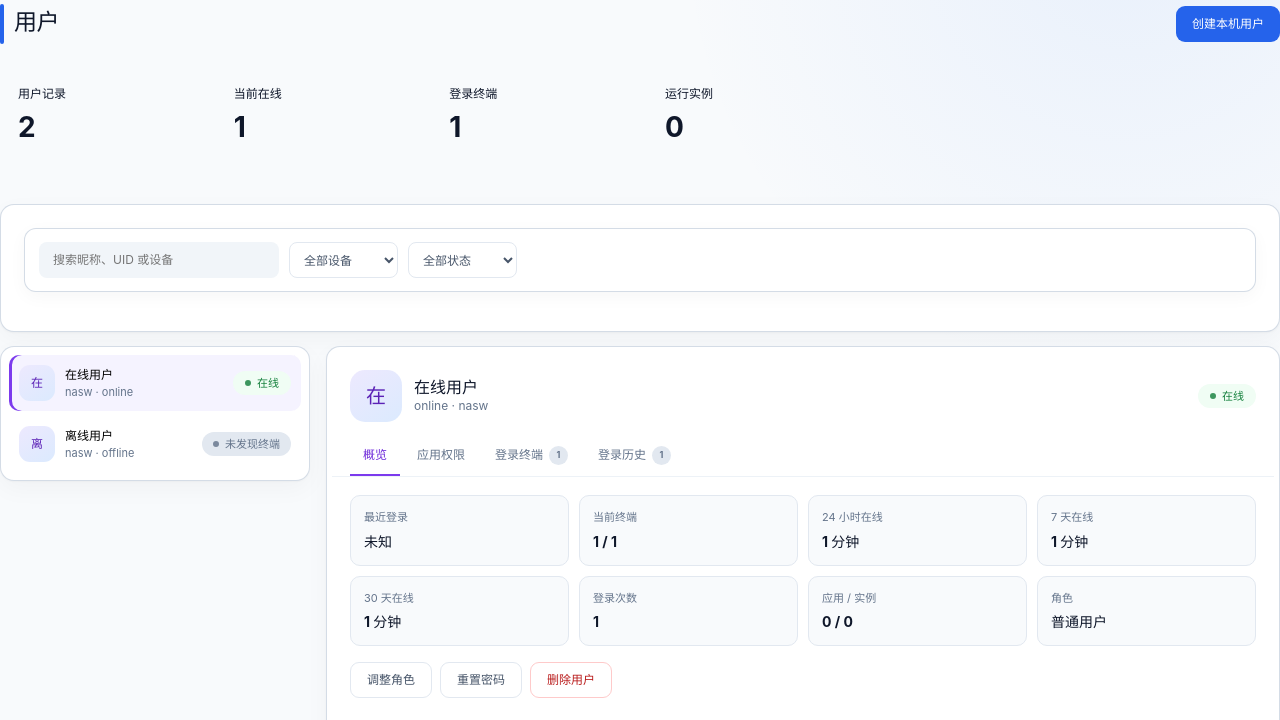
Test: UsersPage › keeps rendering when an offline user has null endpoint and session arrays
Click the button "离 离线用户 nasw · offline 未发现终端" at (37, 444), box left=9, top=416, right=301, bottom=472
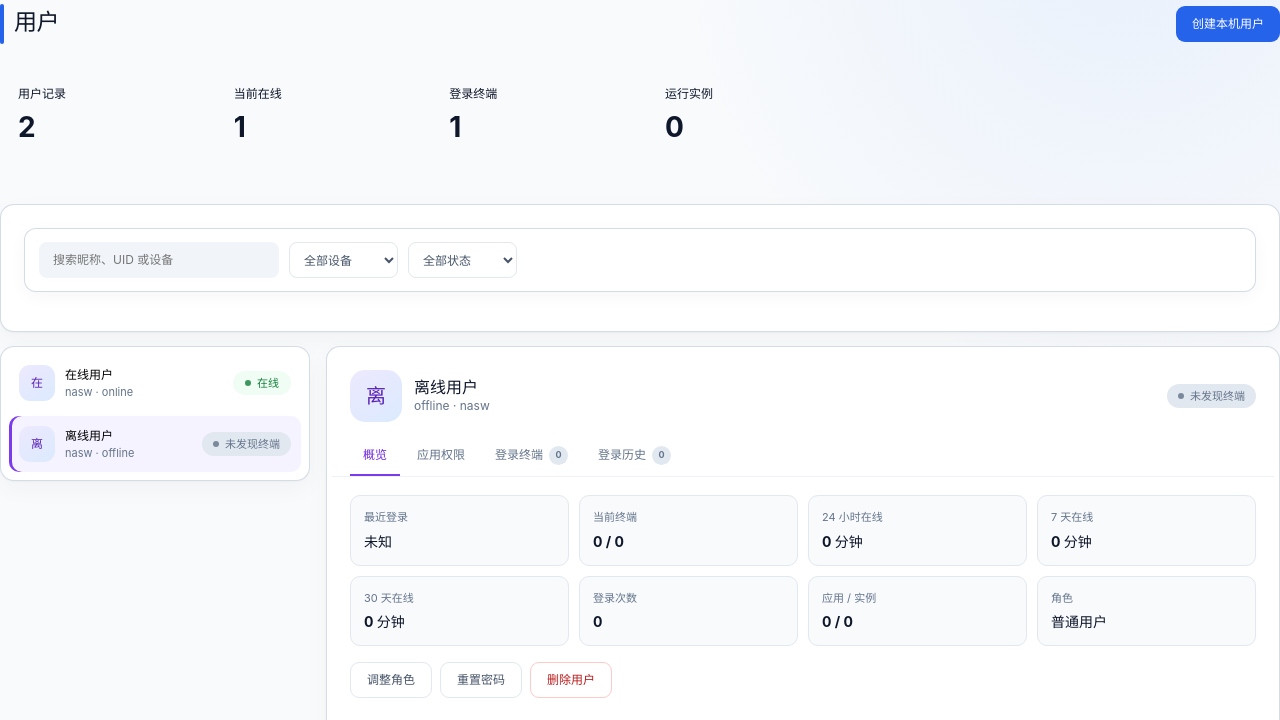
Click the tab "登录历史 0" at (634, 456), box left=585, top=436, right=684, bottom=476
(page scrolled)
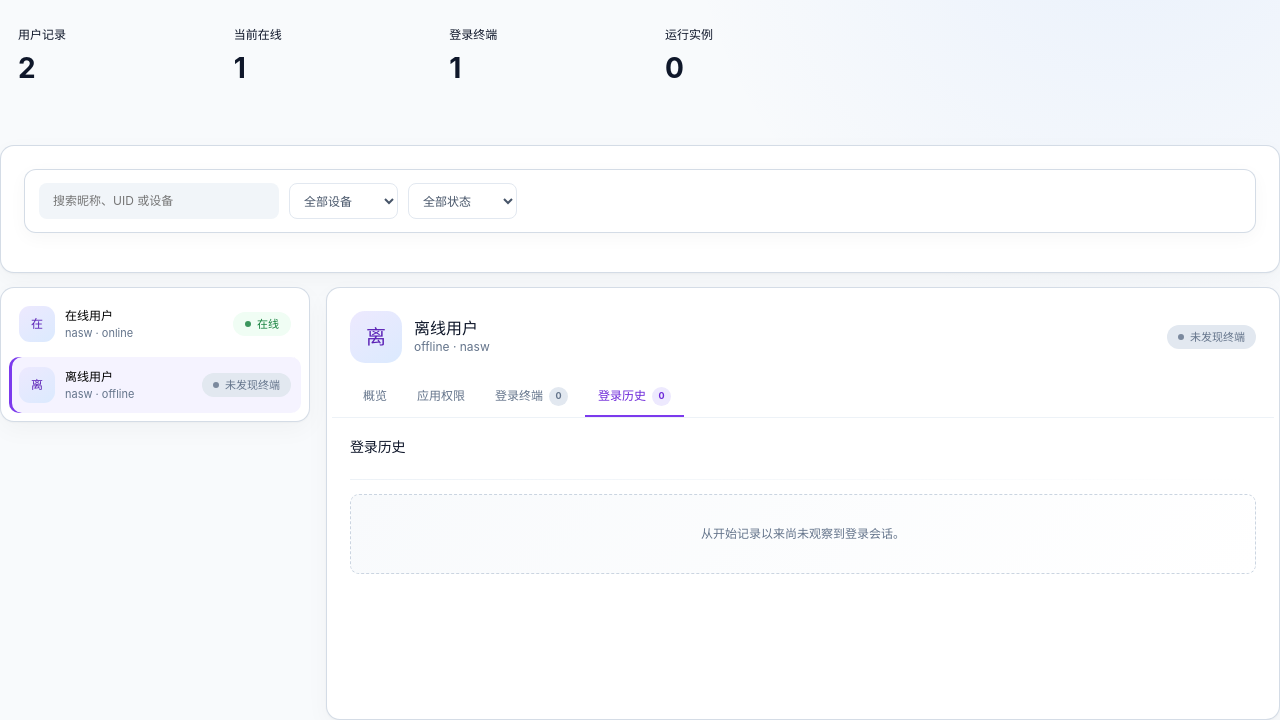
Expected: the element with class "user-detail" shows "离线用户", left=414, top=318, right=478, bottom=338
Expected: the element with class "user-detail" shows "从开始记录以来尚未观察到登录会话。", left=701, top=526, right=905, bottom=541
